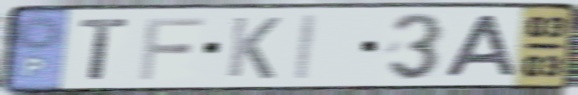3: (377, 11, 451, 83)
A: (441, 13, 520, 80)
F: (136, 15, 207, 82)
I: (291, 12, 322, 83)
K: (223, 14, 284, 82)
T: (77, 16, 132, 82)
